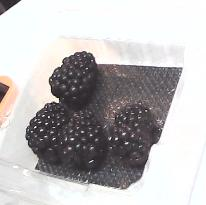berry: (57, 110, 107, 171), (107, 107, 157, 165), (49, 51, 97, 109), (27, 103, 70, 164)
